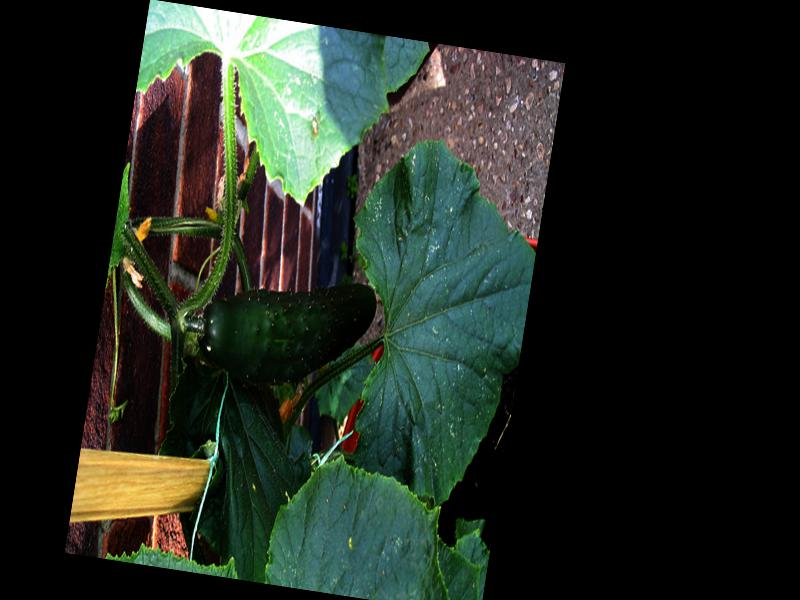Cucumber: (193, 257, 380, 400)
